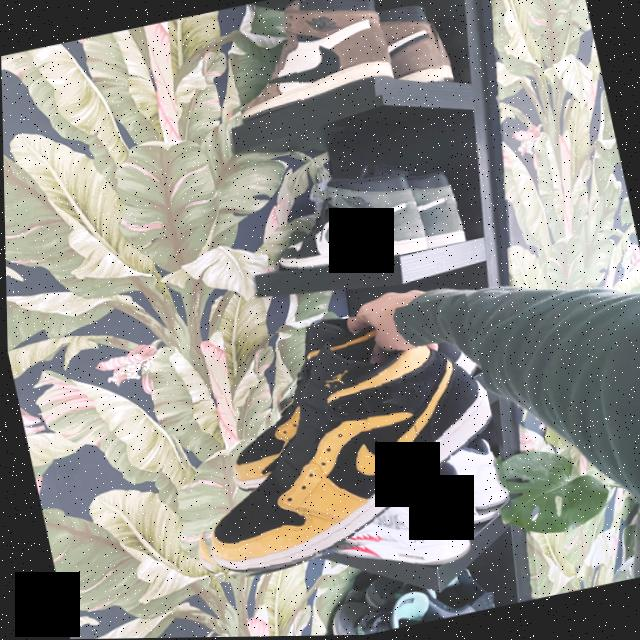shoe: (149, 294, 514, 587), (219, 0, 452, 124), (262, 150, 470, 280)
